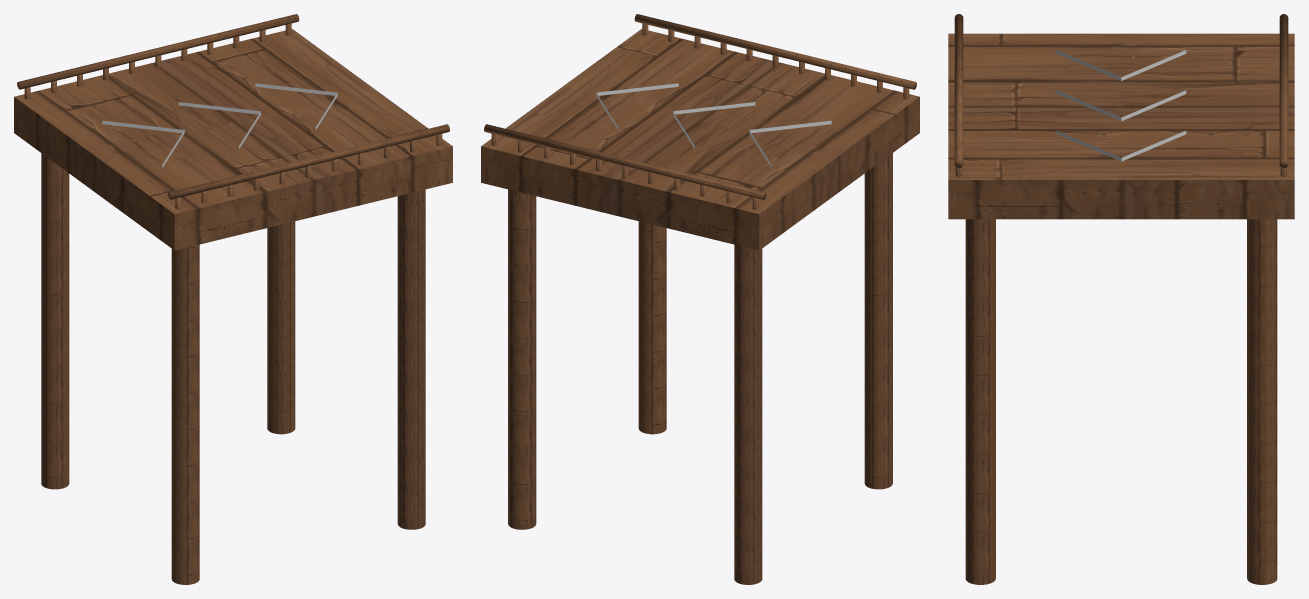
The model's file is Boost16.fbx.
3 views of the same model, side by side, from view 1: azimuth 30°, elevation 25°; view 2: azimuth 150°, elevation 25°; view 3: azimuth 270°, elevation 25° (orthographic). The views are drawn at different scales.
Parts seen in each view (by area): view 1: Ground, pillar.004, Cube.001; view 2: Ground, pillar.004, Cube.001; view 3: Ground, pillar.004, Cube.001.
Boxes of the visible parts, box(x1,y1,x2,y2) form: Ground: box(14, 29, 452, 250); pillar.004: box(17, 14, 449, 584); Cube.001: box(102, 83, 337, 167); Ground: box(481, 29, 919, 250); pillar.004: box(484, 14, 916, 584); Cube.001: box(596, 83, 831, 167); Ground: box(948, 33, 1294, 219); pillar.004: box(954, 14, 1288, 584); Cube.001: box(1056, 50, 1186, 161).
Bounding box in the file's own units: 1600 × 2200 × 1600.
